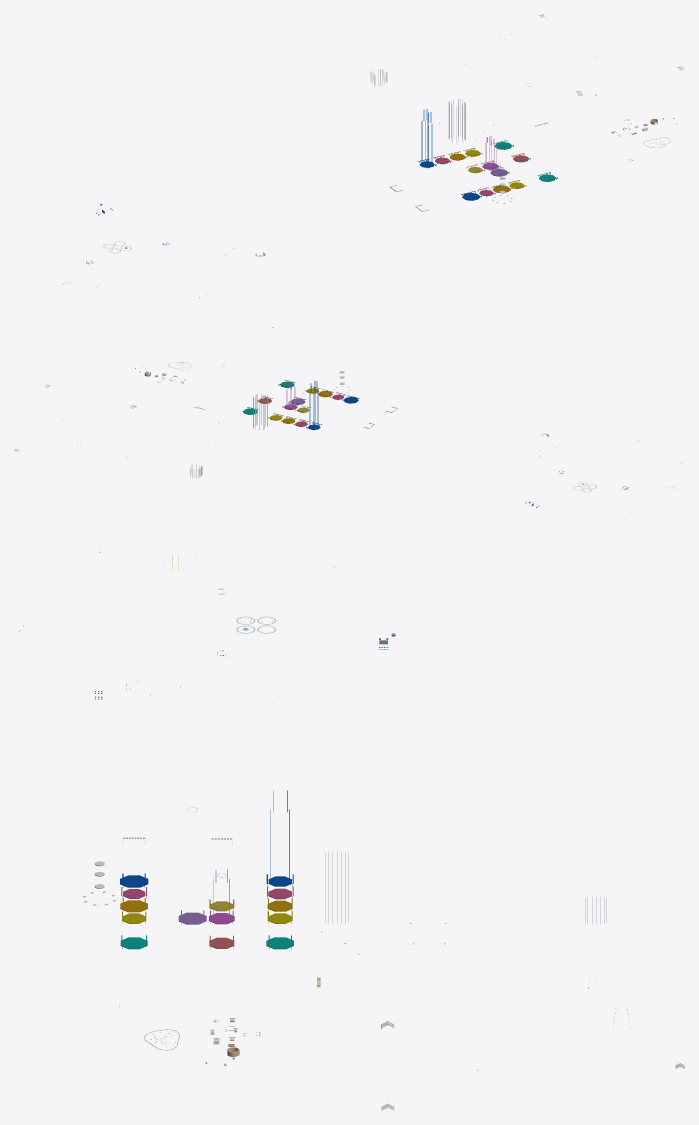
File: pack_26.glb
The picture shows the model from 3 angles, top to bottom: view 1: azimuth 30°, elevation 25°; view 2: azimuth 150°, elevation 25°; view 3: azimuth 270°, elevation 25°; orthographic projection. The views are drawn at different scales.
Visible parts, largest first — view 1: pack_26; view 2: pack_26; view 3: pack_26.
Part boxes in pixels (box(x1,y1,x2,y2)): pack_26: box(14, 14, 684, 297); pack_26: box(14, 327, 681, 517); pack_26: box(19, 551, 684, 1110).
Size of the model in its own units: 2542 by 286 by 1285.
